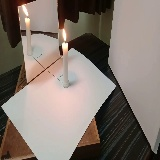fire: (62, 27, 68, 45)
